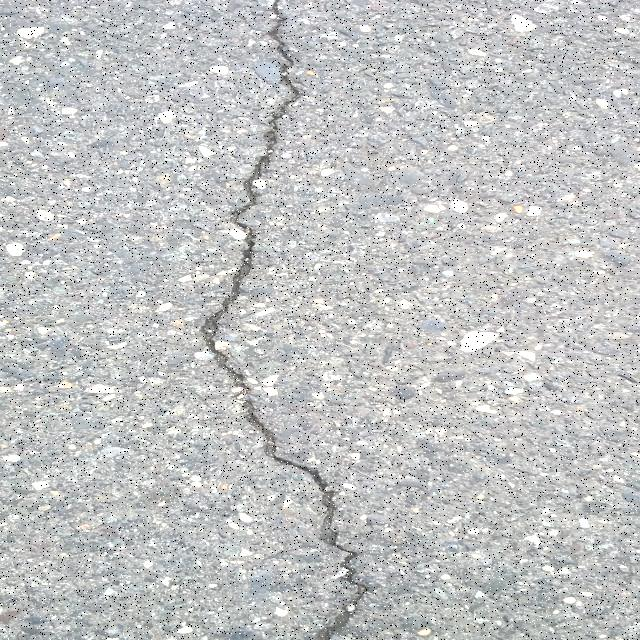Crack: (198, 0, 369, 640)
